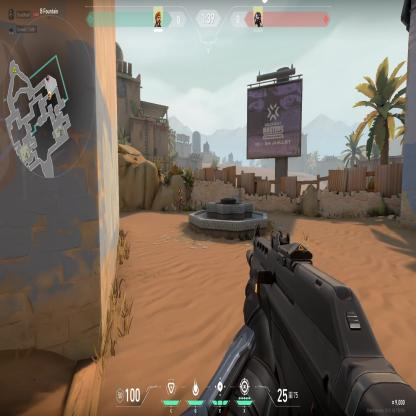enemy: (176, 186, 186, 212)
